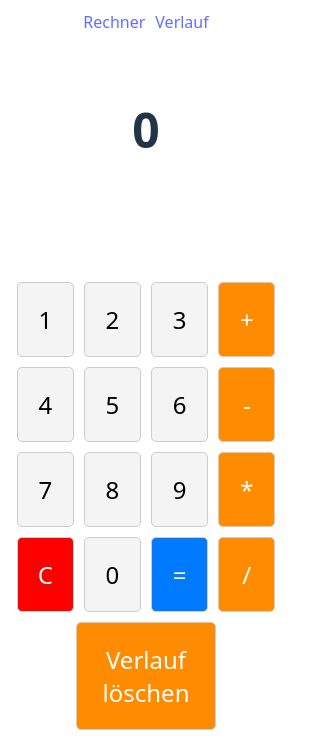
Test: 2. Klick auf Taste '1' zeigt 1 im Display
Click the button "1". click: (45, 319)
box: [17,282,74,357]
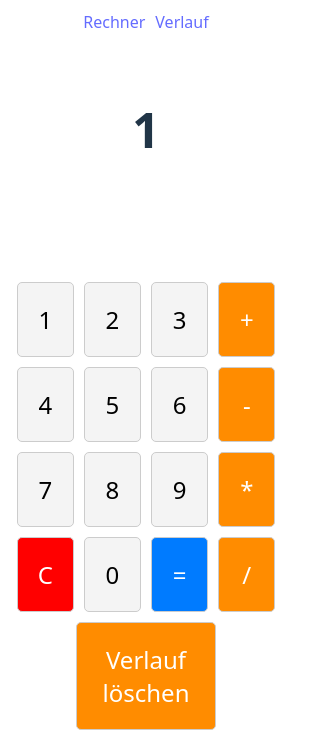
Result: the heading reads "1" at [132,97,160,162]
